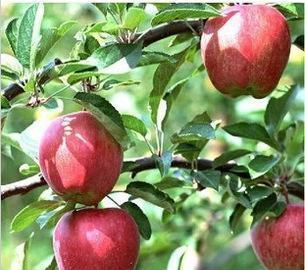apple: (199, 4, 292, 99), (37, 112, 121, 205), (52, 205, 143, 270), (248, 204, 303, 269)
